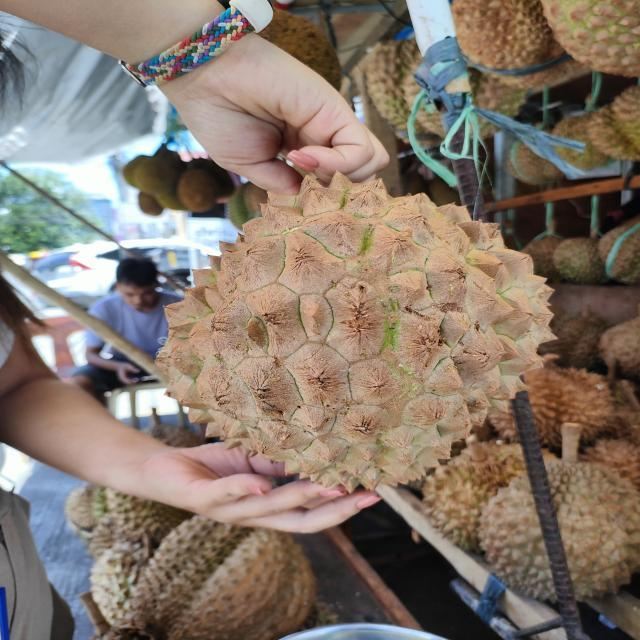mature: (135, 169, 559, 483)
